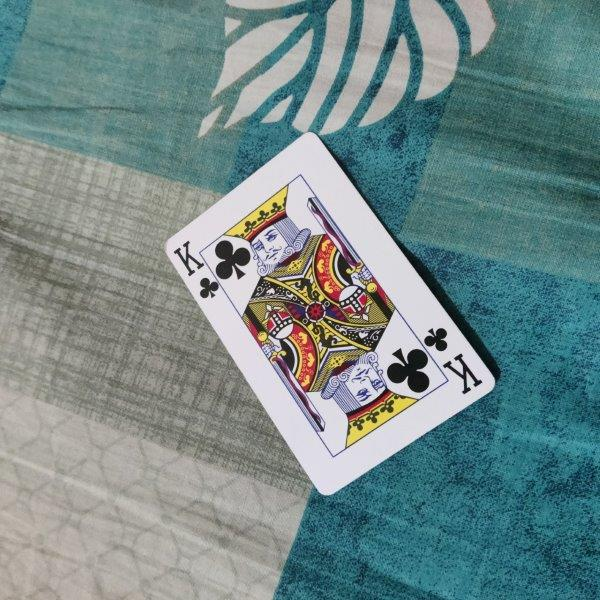King of Clubs: (164, 132, 496, 496)
